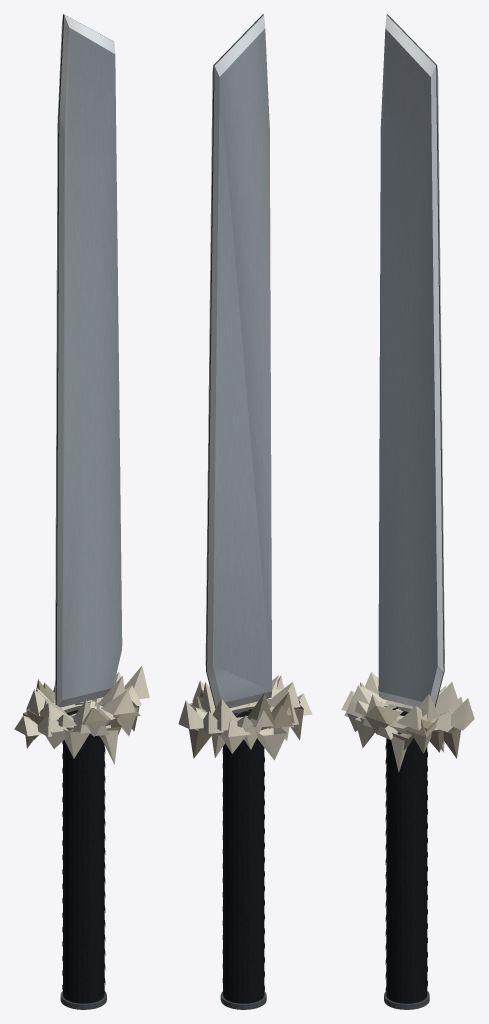
Rendered from split_soul_katana.obj.
3 renders of one model, left to right at view 1: azimuth 30°, elevation 25°; view 2: azimuth 210°, elevation 25°; view 3: azimuth 330°, elevation 25°, orthographic.
Bounding box in the file's own units: 0.3059 × 2.36 × 0.206.
